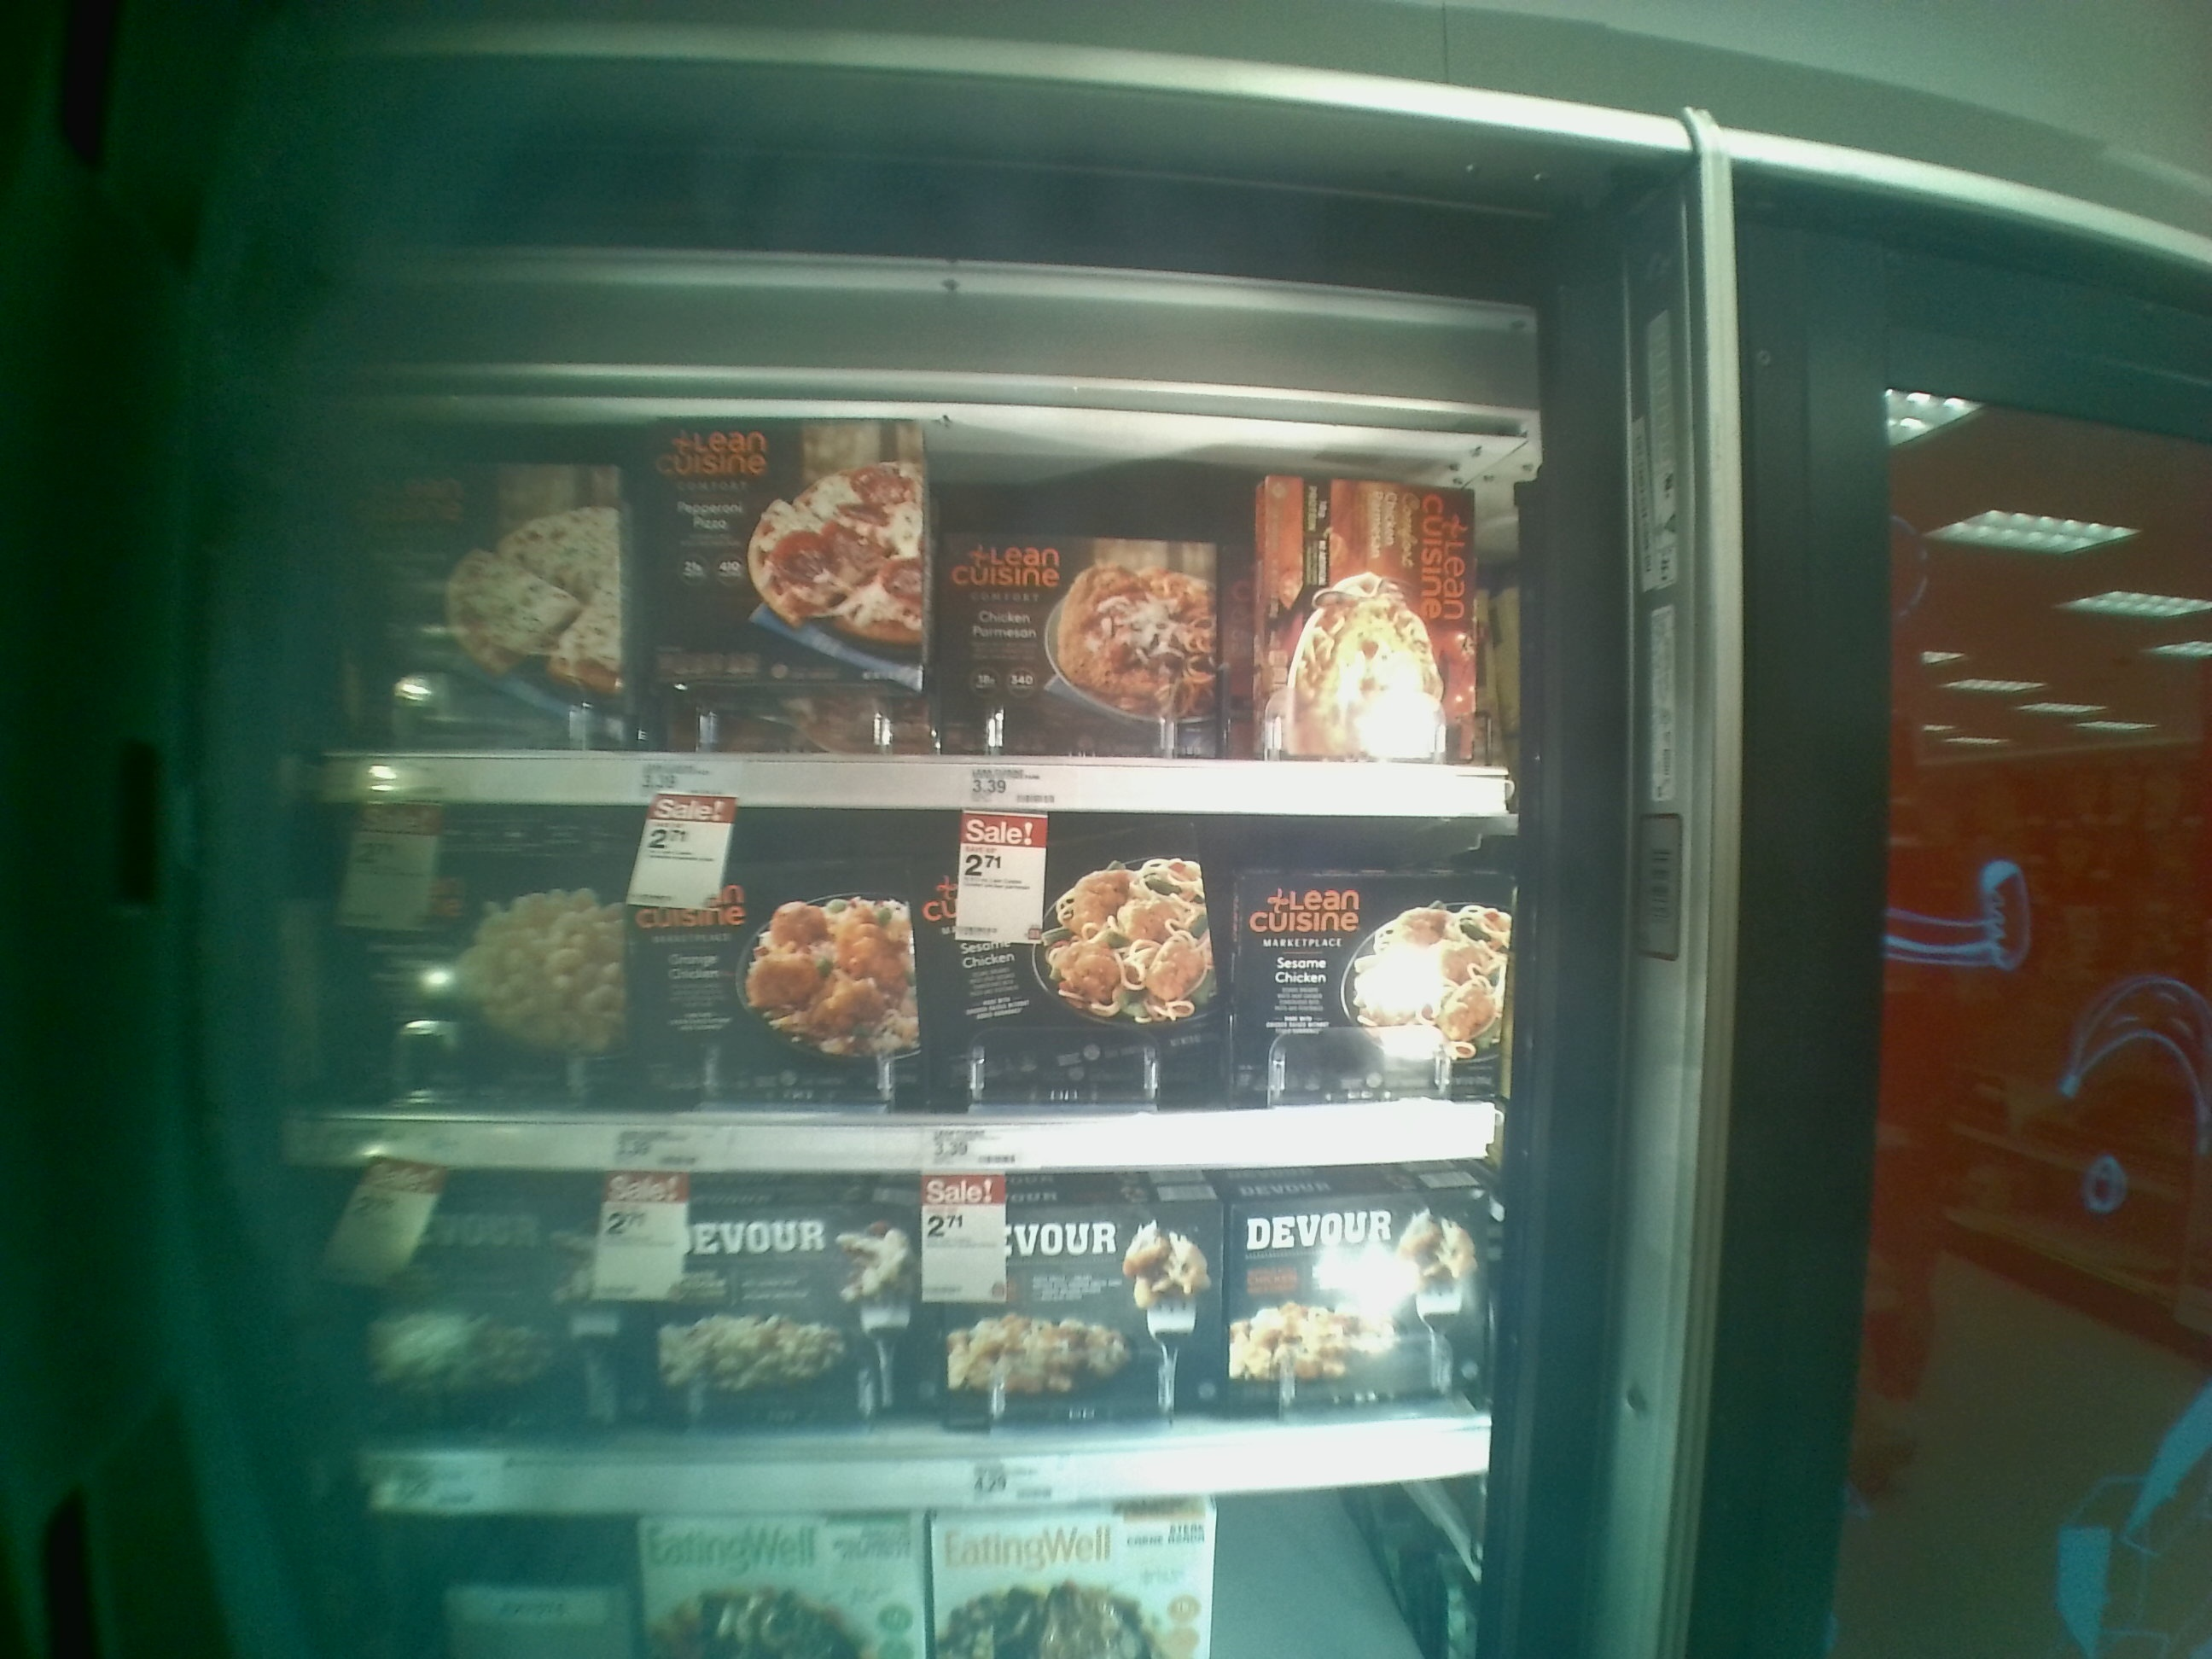shelf: (291, 275, 1515, 809), (298, 798, 1501, 1159)
